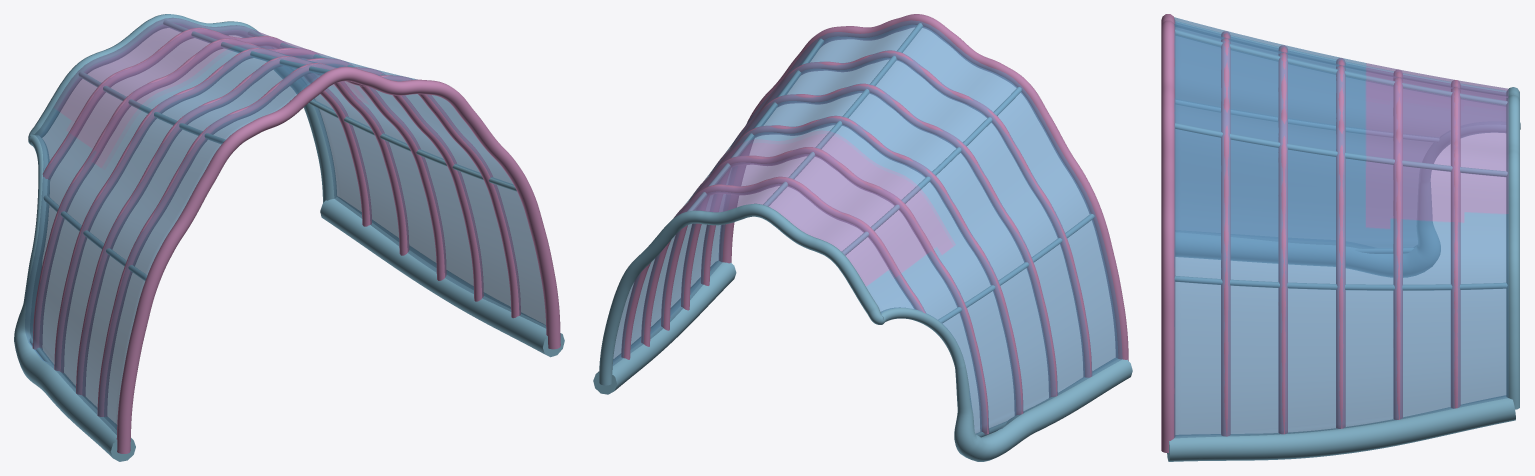
File: cove-corner-v1.glb
The picture shows the model from 3 angles, left to right: view 1: azimuth 30°, elevation 25°; view 2: azimuth 150°, elevation 25°; view 3: azimuth 270°, elevation 25°; orthographic projection. The views are drawn at different scales.
Parts seen in each view (by area): view 1: Harbor / continuous translucent shell hall, Harbor / curved shell structural rib, Harbor / continuous entrance runner jamb rear arch, Harbor / curved shell structural rib.001, Harbor / shell grown footing.001, Harbor / curved shell structural rib.002, Harbor / curved shell structural rib.003, Harbor / curved shell structural rib.004, Harbor / corner structural rib joined to rim, Harbor / shell longitudinal seam.001, Harbor / shell longitudinal seam.004, Harbor / shell longitudinal seam.003 (+1 smaller); view 2: Harbor / continuous translucent shell hall, Harbor / continuous entrance runner jamb rear arch, Harbor / curved shell structural rib, Harbor / curved shell structural rib.001, Harbor / curved shell structural rib.002, Harbor / curved shell structural rib.003, Harbor / curved shell structural rib.004, Harbor / shell grown footing.001, Harbor / corner structural rib joined to rim, Harbor / shell longitudinal seam.004, Harbor / shell longitudinal seam.003, Harbor / shell longitudinal seam.002 (+1 smaller); view 3: Harbor / continuous translucent shell hall, Harbor / continuous entrance runner jamb rear arch, Harbor / shell grown footing.001, Harbor / curved shell structural rib, Harbor / curved shell structural rib.001, Harbor / curved shell structural rib.002, Harbor / curved shell structural rib.003, Harbor / curved shell structural rib.004, Harbor / corner structural rib joined to rim, Harbor / shell longitudinal seam.001, Harbor / shell longitudinal seam.002, Harbor / shell longitudinal seam.003 (+2 smaller).
Part boxes in pixels (x1,y1,x2,y2): Harbor / continuous translucent shell hall: (25,17,546,434); Harbor / curved shell structural rib: (116,66,560,453); Harbor / continuous entrance runner jamb rear arch: (14,14,336,461); Harbor / curved shell structural rib.001: (97,63,520,416); Harbor / shell grown footing.001: (320,196,564,357); Harbor / curved shell structural rib.002: (76,56,483,396); Harbor / curved shell structural rib.003: (54,47,446,372); Harbor / curved shell structural rib.004: (32,38,409,349); Harbor / corner structural rib joined to rim: (42,27,371,226); Harbor / shell longitudinal seam.001: (309,99,516,191); Harbor / shell longitudinal seam.004: (78,71,225,144); Harbor / shell longitudinal seam.003: (163,20,329,74); Harbor / continuous translucent shell hall: (612,20,1122,436); Harbor / continuous entrance runner jamb rear arch: (599,203,1132,461); Harbor / curved shell structural rib: (719,14,1128,360); Harbor / curved shell structural rib.001: (700,50,1092,377); Harbor / curved shell structural rib.002: (681,83,1057,397); Harbor / curved shell structural rib.003: (661,115,1023,415); Harbor / curved shell structural rib.004: (641,147,989,434); Harbor / shell grown footing.001: (593,261,736,394); Harbor / corner structural rib joined to rim: (621,176,925,359); Harbor / shell longitudinal seam.004: (842,87,1021,255); Harbor / shell longitudinal seam.003: (763,23,922,206); Harbor / shell longitudinal seam.002: (687,38,823,211); Harbor / continuous translucent shell hall: (1174,17,1508,438); Harbor / continuous entrance runner jamb rear arch: (1175,87,1520,409); Harbor / shell grown footing.001: (1167,395,1515,461); Harbor / curved shell structural rib: (1161,14,1175,452); Harbor / curved shell structural rib.001: (1221,31,1230,436); Harbor / curved shell structural rib.002: (1278,45,1287,434); Harbor / curved shell structural rib.003: (1336,58,1345,428); Harbor / curved shell structural rib.004: (1393,69,1402,419); Harbor / corner structural rib joined to rim: (1451,80,1460,408); Harbor / shell longitudinal seam.001: (1174,276,1507,290); Harbor / shell longitudinal seam.002: (1175,123,1507,176); Harbor / shell longitudinal seam.003: (1175,29,1507,106).
Bounding box in the file's own units: 4.94 × 3.62 × 3.46.
